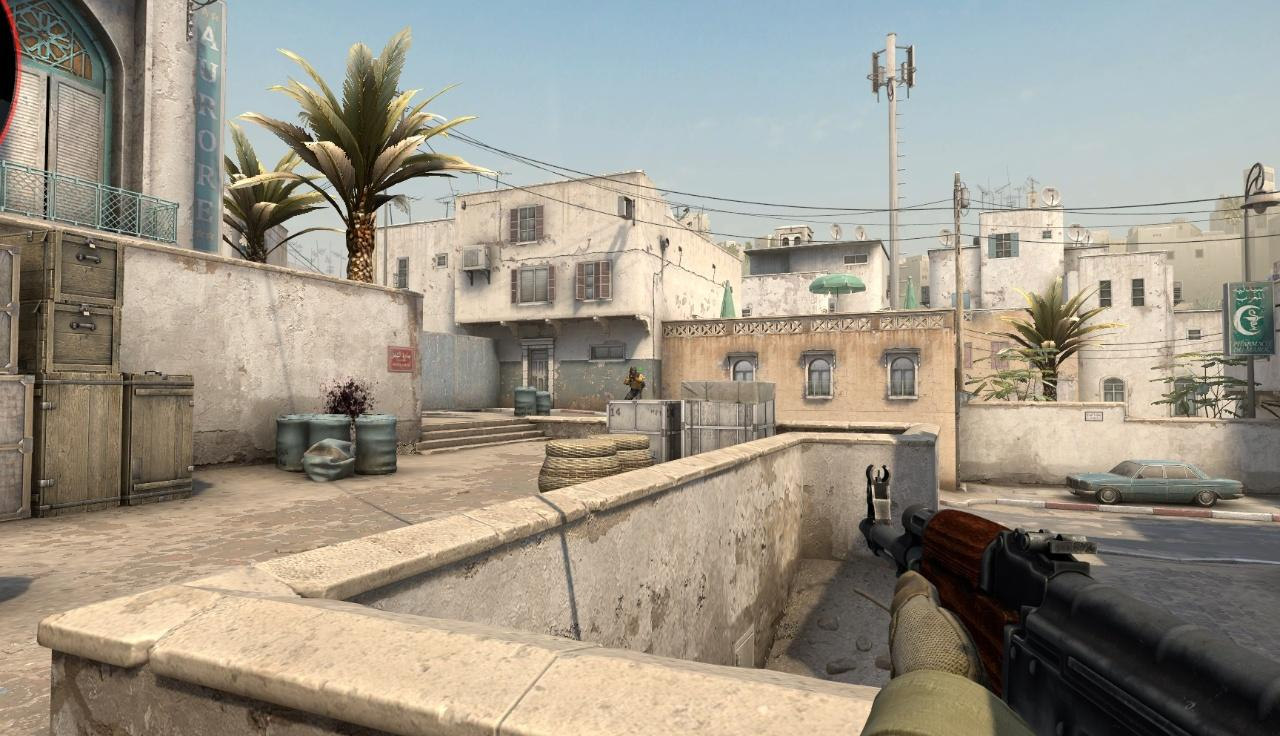rifle: (863, 462, 1280, 736)
tt: (625, 367, 643, 400)
tthead: (630, 367, 637, 376)
